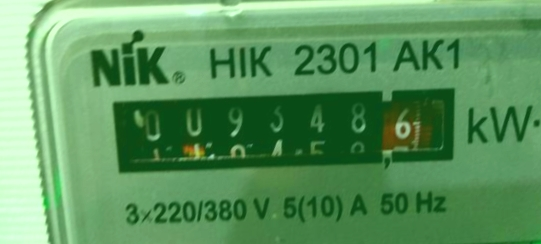0: (181, 102, 203, 139), (140, 105, 161, 141)
3: (263, 99, 286, 132)
4: (303, 98, 325, 135)
6: (390, 104, 414, 139)
8: (346, 98, 367, 133)
9: (224, 101, 243, 136)
screen: (87, 70, 476, 188)
